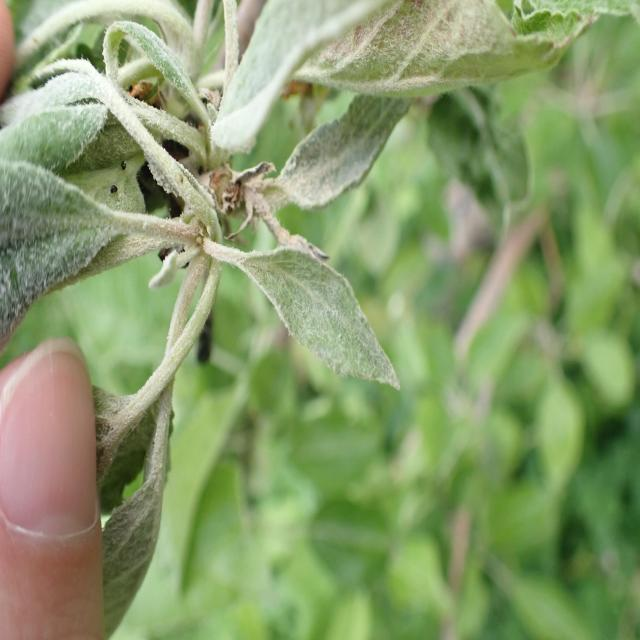Powdery_mildew: (253, 0, 541, 151), (219, 0, 408, 166), (235, 245, 416, 408), (252, 84, 411, 240), (0, 167, 122, 357), (98, 419, 182, 640), (0, 30, 117, 168), (84, 5, 206, 130)
